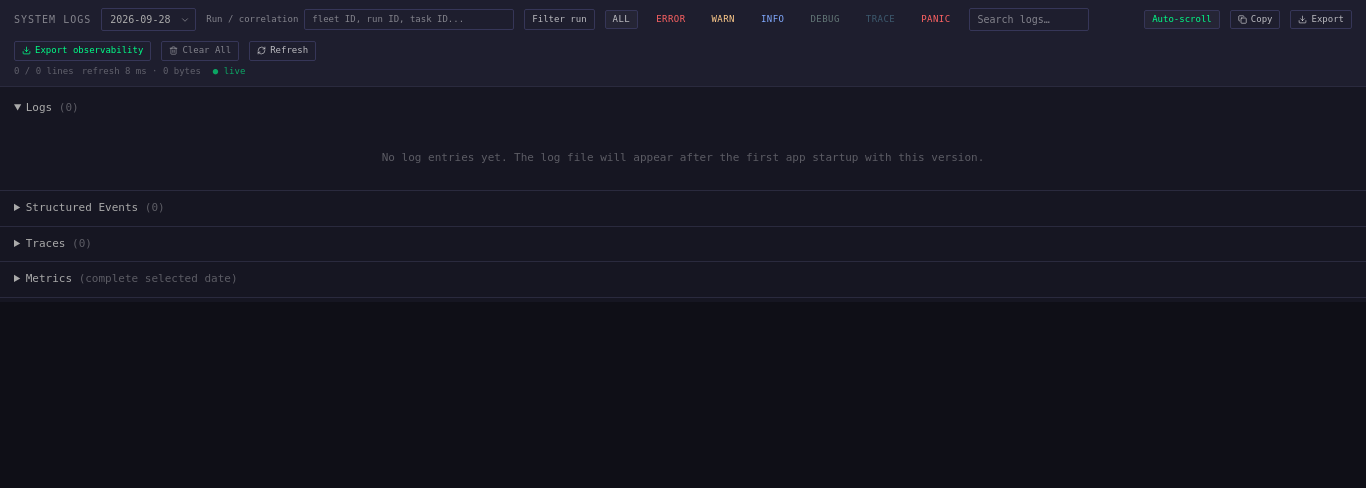
Test: Logs tab › shows process-lifetime log writer failures in the metrics section
The width and height of the screenshot is (1366, 488).
Click the heading "Metrics (complete selected date)" at (132, 278), box [26, 272, 238, 285]
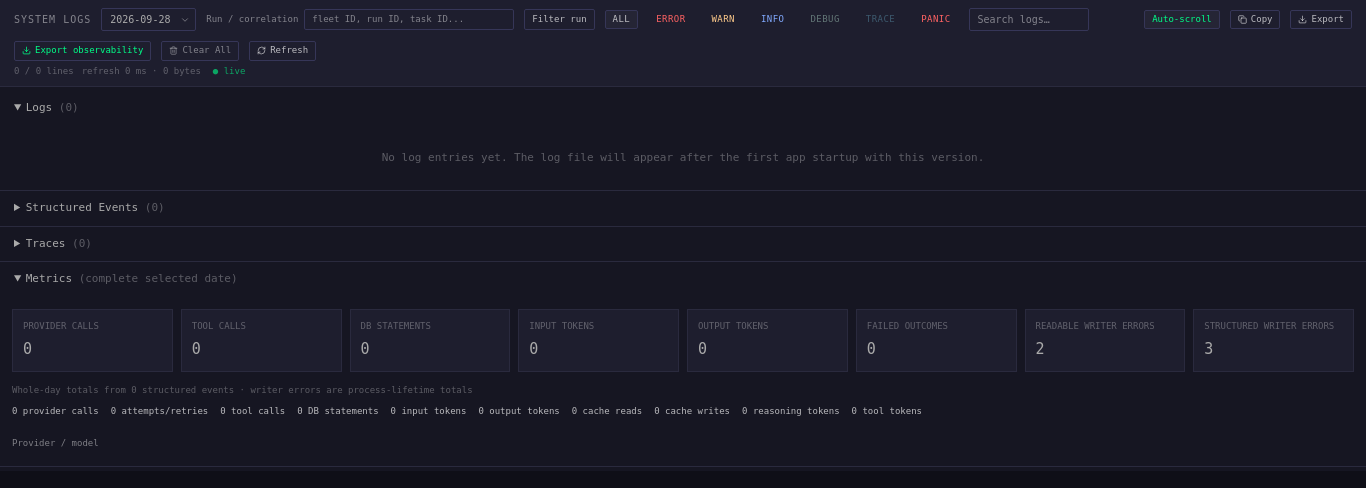
Now the text "Readable writer errors" is shown, box [1036, 320, 1174, 333]
Now the text "Structured writer errors" is shown, box [1204, 320, 1343, 333]
Now the text "2" is shown, box [1036, 340, 1044, 358]
